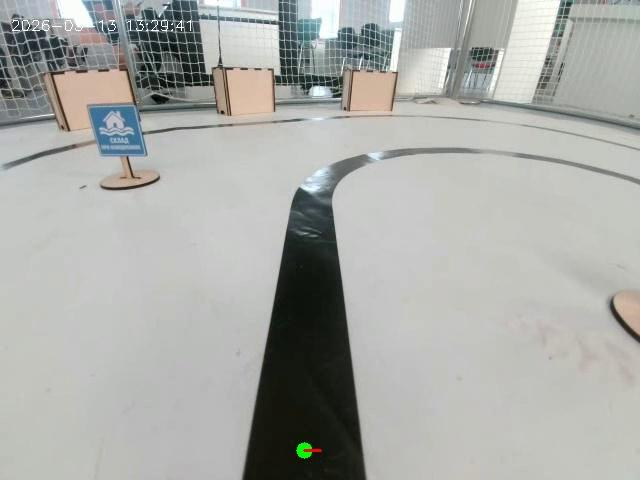flood: (78, 104, 158, 169)
